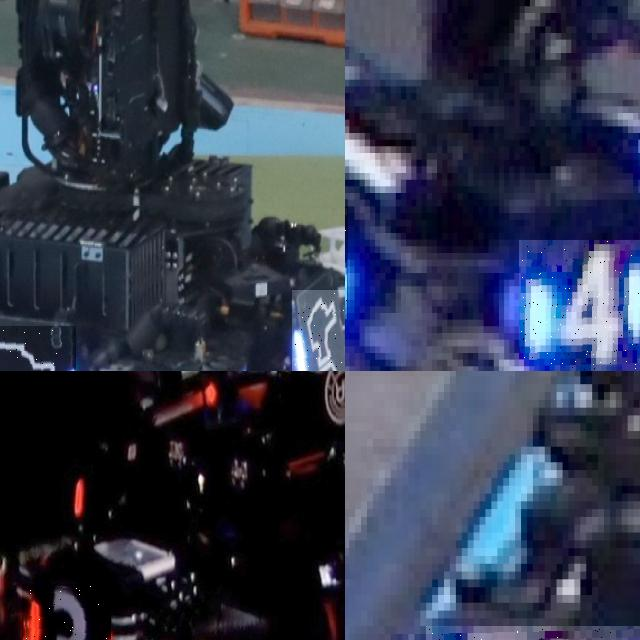B4: (519, 239, 640, 371)
Bs: (291, 290, 345, 371), (0, 326, 76, 371)
R3: (22, 583, 110, 640)
